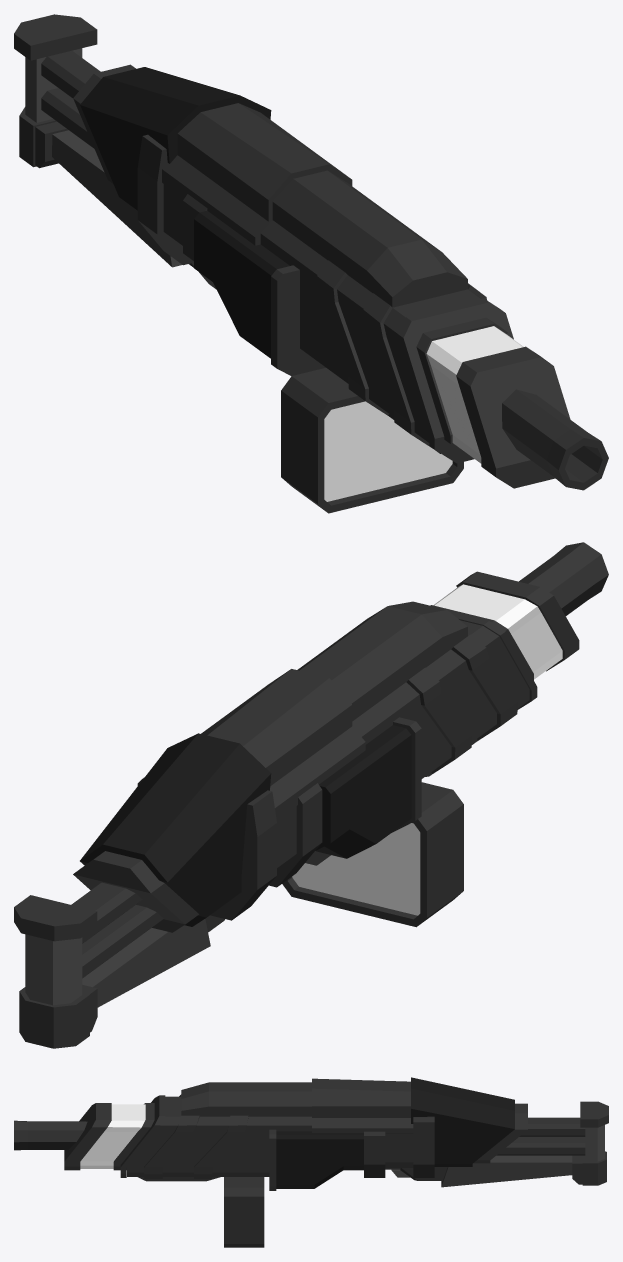
Rendered from IonRifle.fbx.
3 views of the same model, one above another, from view 1: azimuth 30°, elevation 25°; view 2: azimuth 150°, elevation 25°; view 3: azimuth 270°, elevation 25° (orthographic). The views are drawn at different scales.
Visible parts, largest first — view 1: IonRifle; view 2: IonRifle; view 3: IonRifle.
Boxes of the visible parts, x1,y1,x2,y2 form: IonRifle: (14,14,608,513); IonRifle: (14,542,608,1048); IonRifle: (14,1077,608,1247).
Size of the model in its own units: 25.7 by 45.83 by 167.
